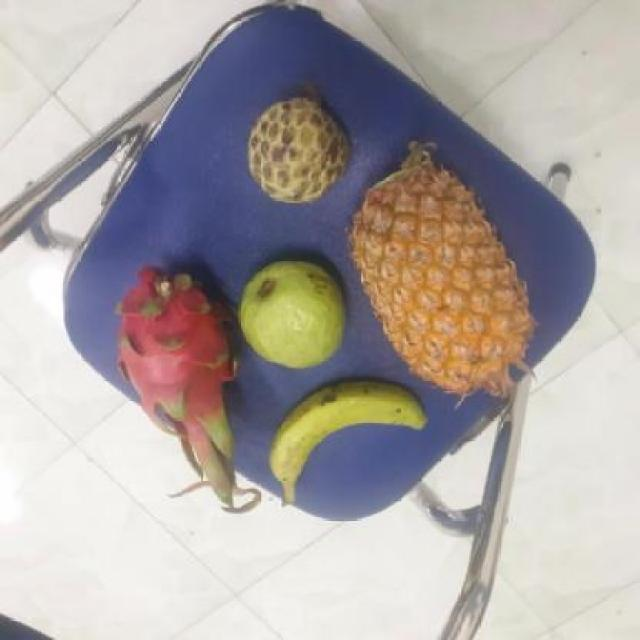banana: (273, 382, 427, 500)
dragon fruit: (118, 274, 244, 448)
guava: (236, 254, 352, 368)
pineapple: (352, 150, 540, 392)
sugar apple: (246, 94, 356, 206)
